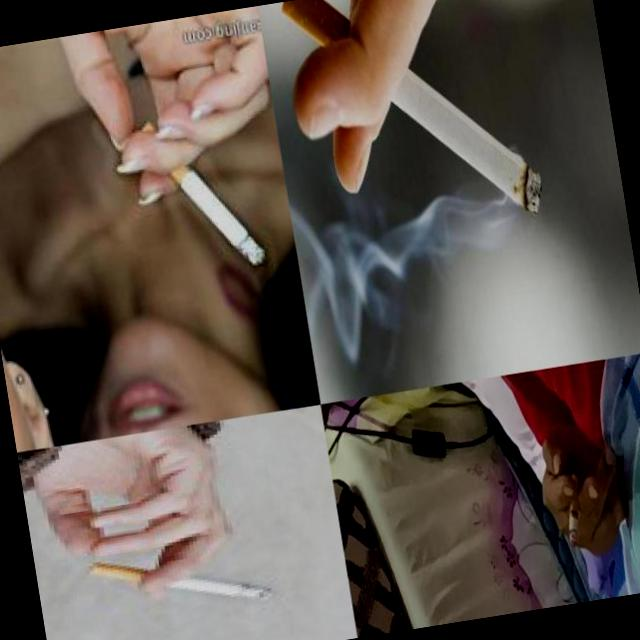cigarette: (279, 0, 546, 249), (139, 105, 269, 283), (88, 538, 282, 632), (559, 472, 590, 548)
